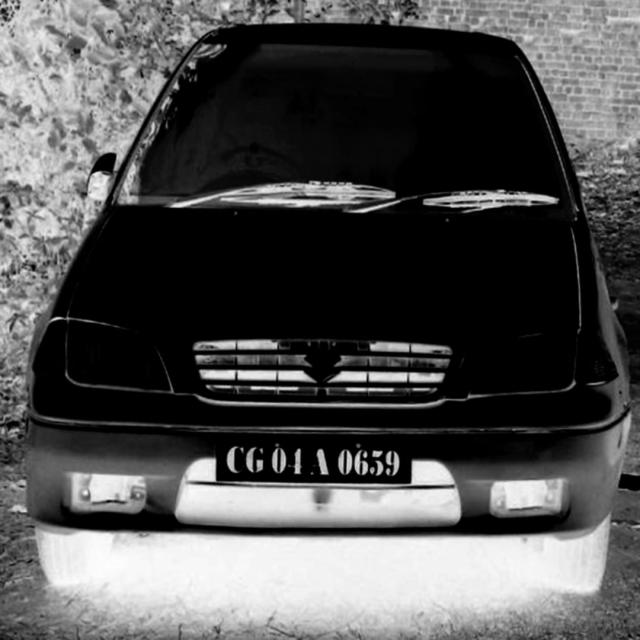Non_registered: (216, 430, 414, 486)
